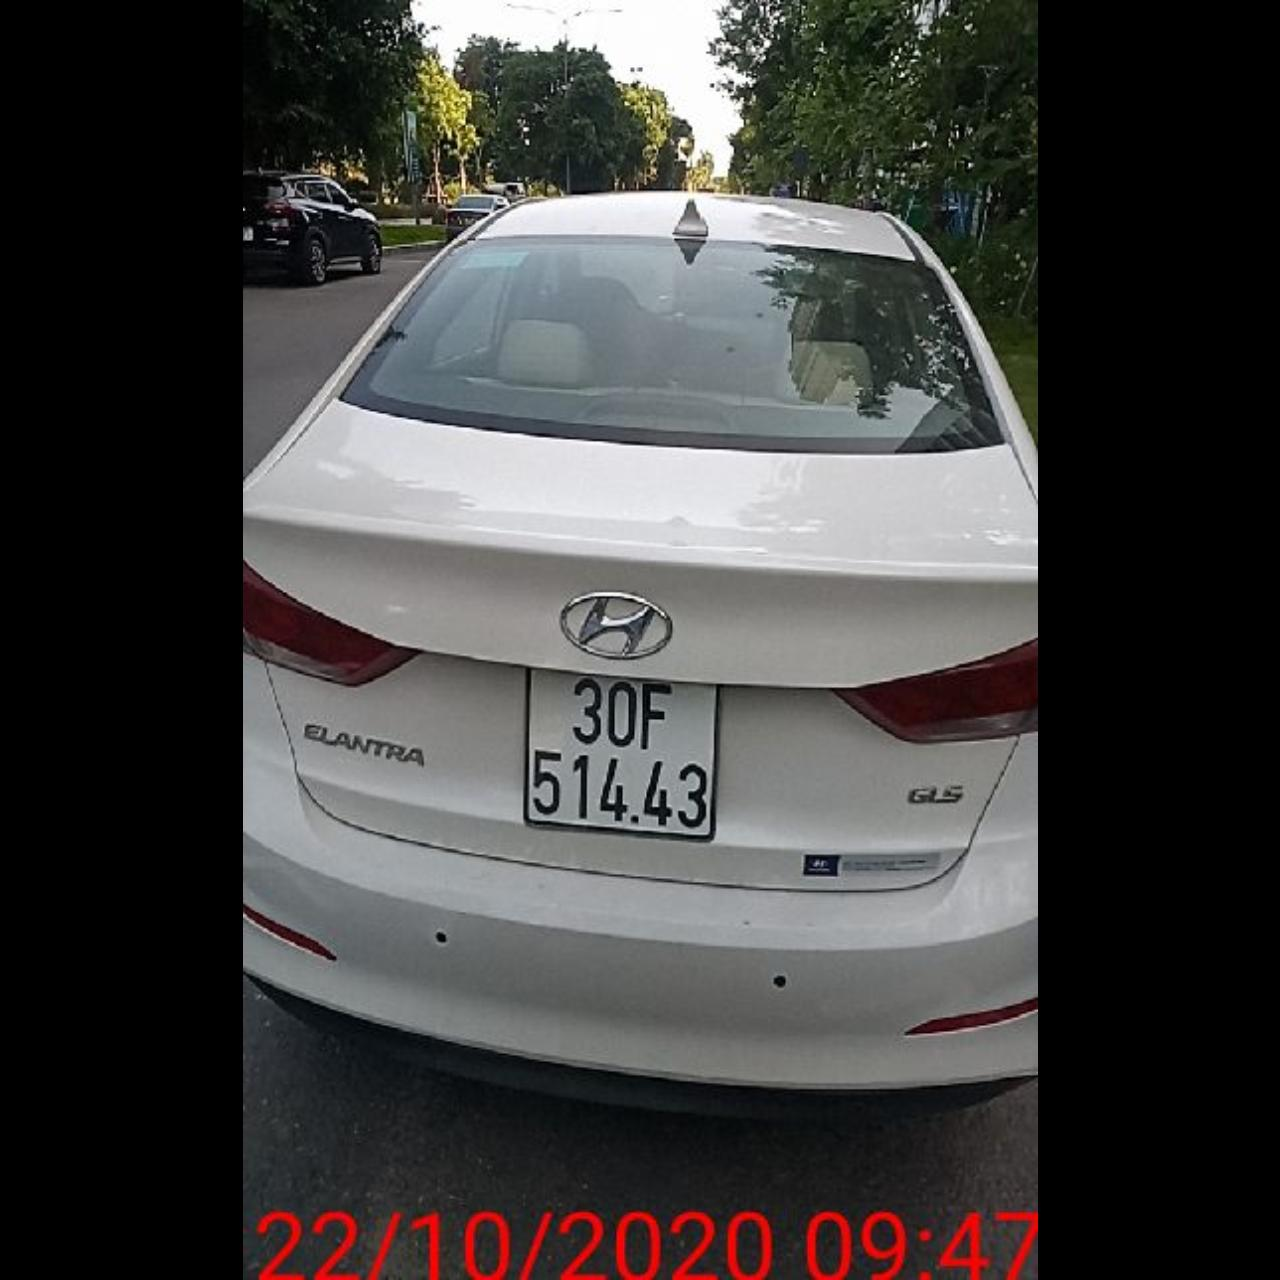bienso: (520, 654, 722, 846)
